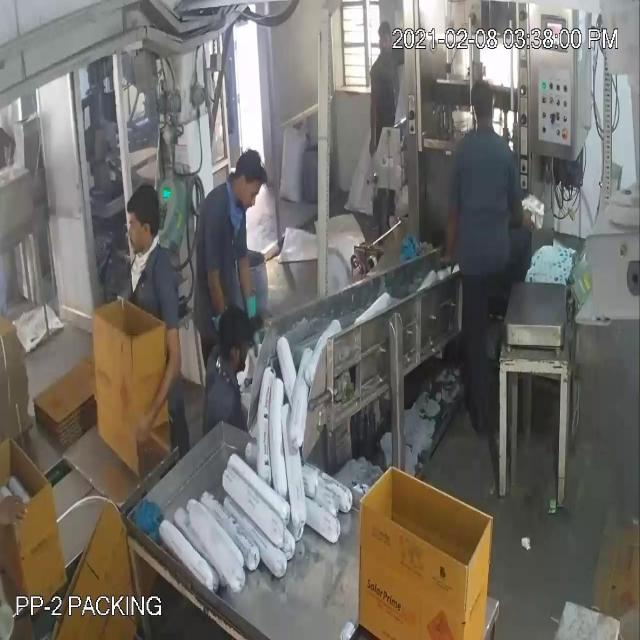No_Gloves: (22, 68, 158, 509)
